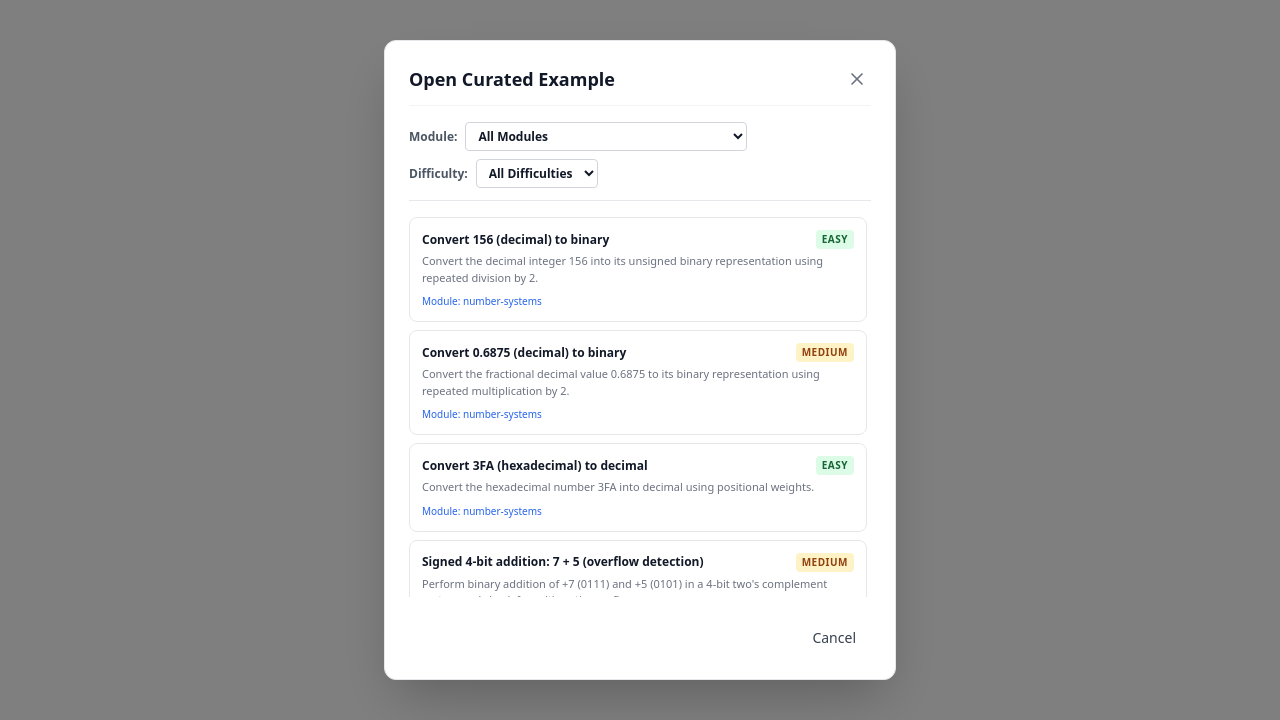
Scenario: ExamplesMenu Component › filters problem list dynamically by module id
Select "Karnaugh Map Minimizer" in the dropdown named "Filter by Module": (606, 136) [465,122,747,151]
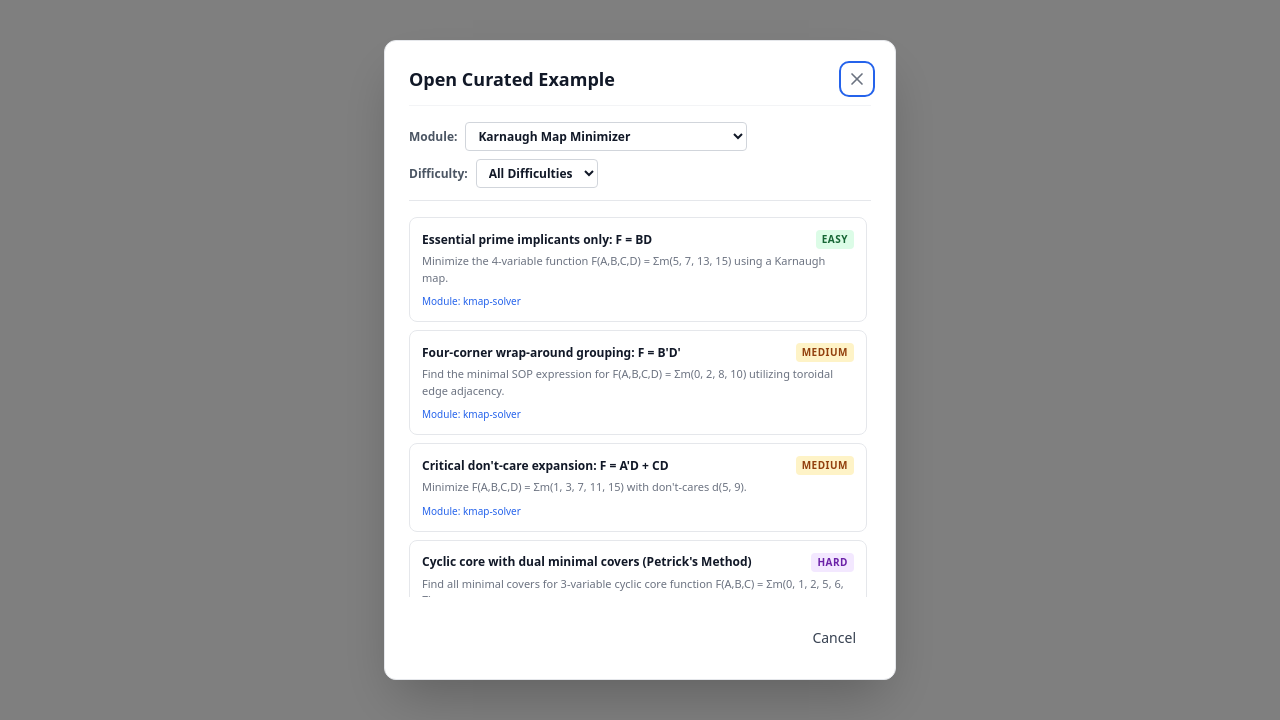
Now the button "Module: number-systems" is gone
